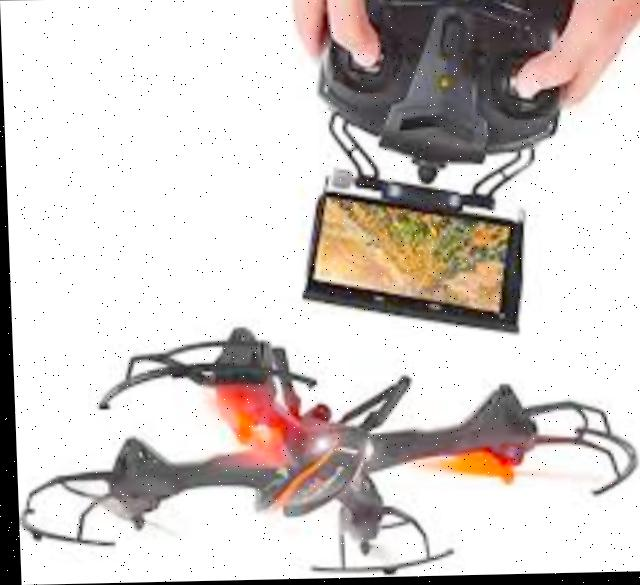drone: (9, 312, 640, 584)
